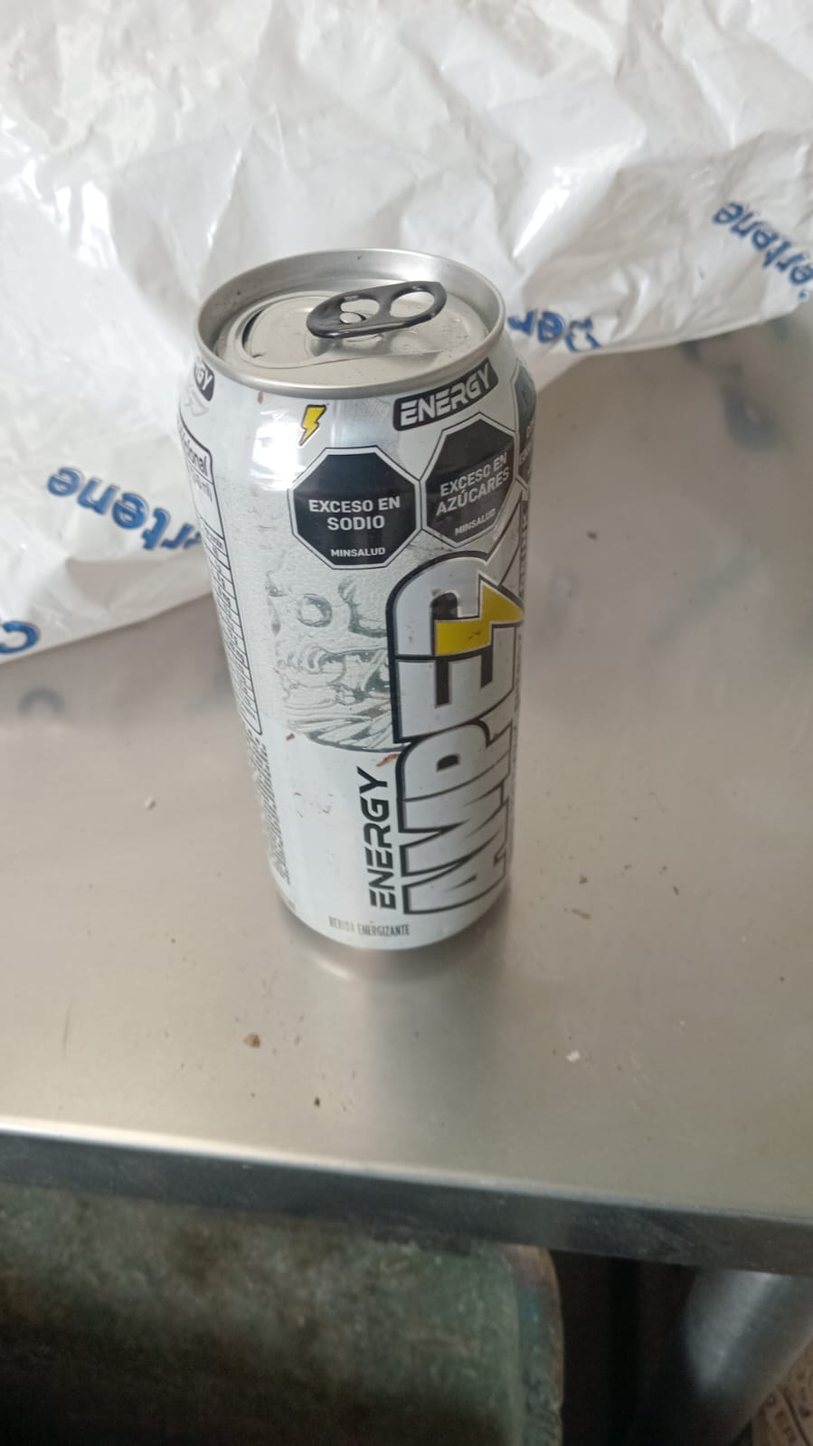Metal: (179, 244, 534, 950)
